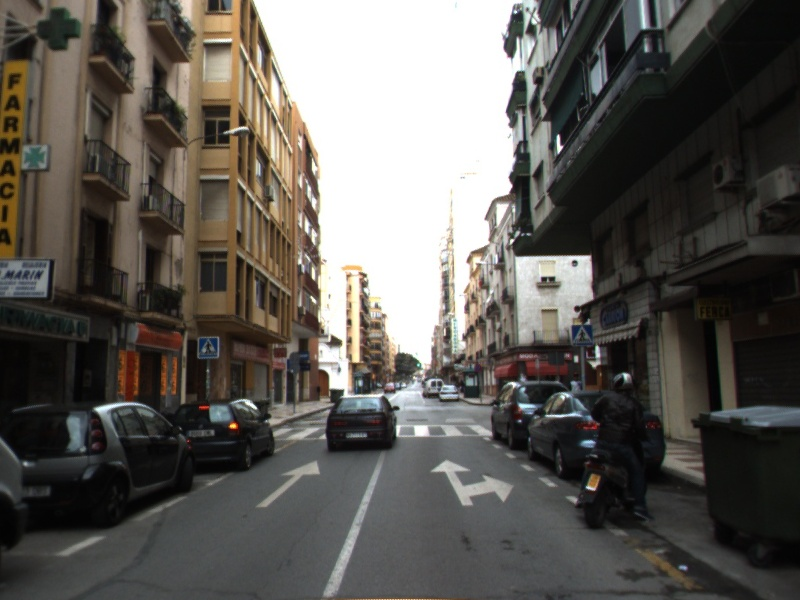STRAIGHT: (254, 458, 322, 509)
STRAIGHT_RIGHT: (429, 458, 516, 508)
